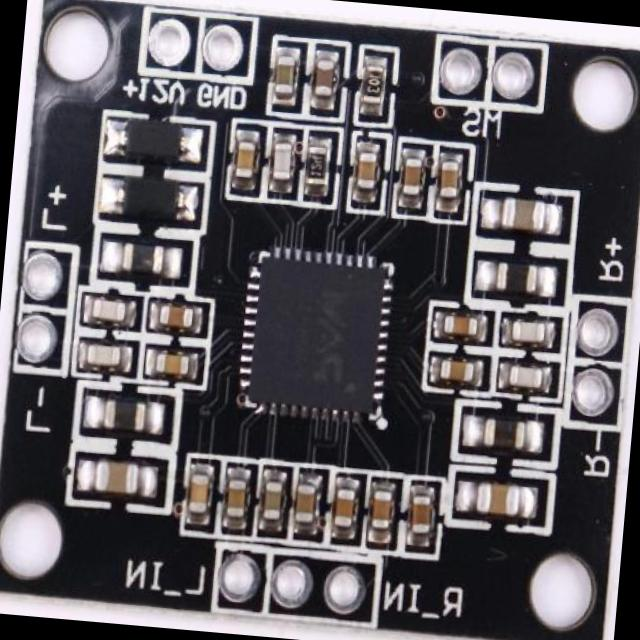IC: (246, 250, 392, 422)
capacitor: (470, 480, 520, 520), (92, 456, 140, 496), (500, 196, 548, 234), (79, 336, 124, 374), (230, 135, 260, 191), (332, 478, 358, 536), (269, 136, 295, 188), (295, 476, 321, 528), (260, 475, 287, 525), (400, 150, 426, 200), (436, 312, 480, 341), (186, 471, 214, 516), (436, 356, 476, 386), (225, 477, 248, 528), (370, 486, 392, 538), (88, 295, 126, 325), (408, 489, 432, 536), (159, 300, 192, 332), (508, 362, 544, 391), (274, 51, 296, 98), (310, 56, 332, 102), (438, 156, 459, 202), (154, 346, 188, 374), (357, 150, 378, 194), (513, 319, 543, 344)
diode: (109, 173, 187, 225), (116, 115, 188, 165)
resistor: (360, 53, 390, 106), (304, 136, 332, 182)
